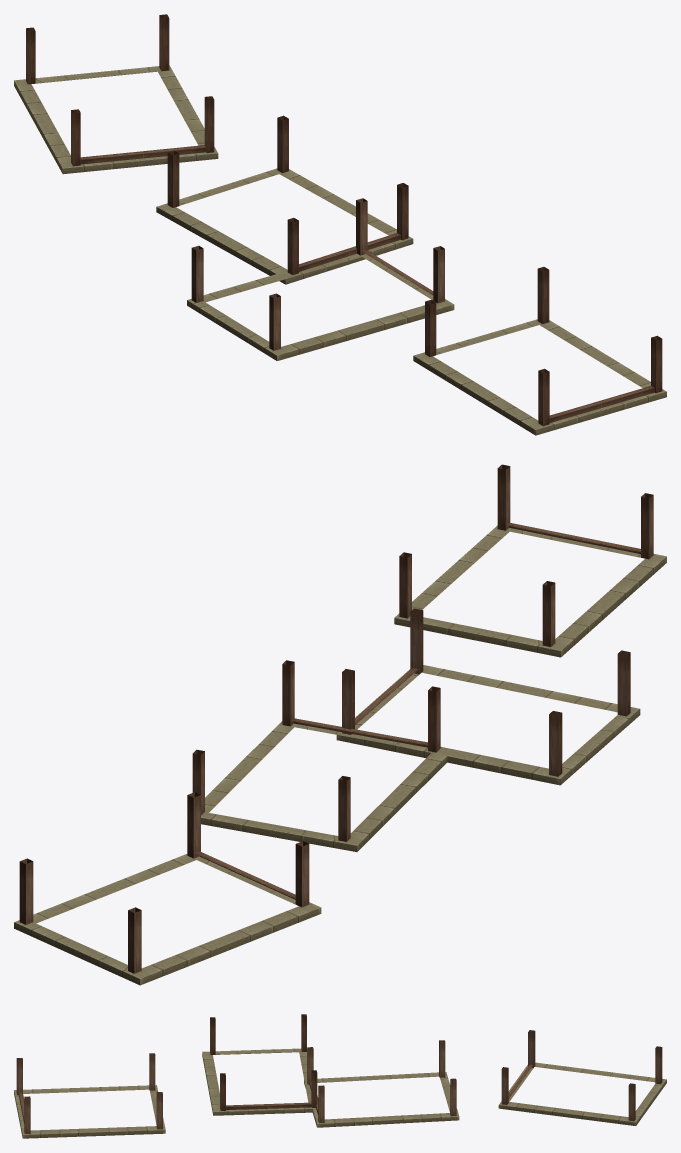
File: Area_07_8.fbx
The picture shows the model from 3 angles, top to bottom: view 1: azimuth 30°, elevation 25°; view 2: azimuth 150°, elevation 25°; view 3: azimuth 270°, elevation 25°; orthographic projection. The views are drawn at different scales.
Parts seen in each view (by area): view 1: Area_07_8; view 2: Area_07_8; view 3: Area_07_8.
Part boxes in pixels (x1,y1,x2,y2): Area_07_8: [14, 14, 666, 435]; Area_07_8: [14, 464, 666, 985]; Area_07_8: [14, 1014, 666, 1138].
Bounding box in the file's own units: 2055 × 429 × 6538.
